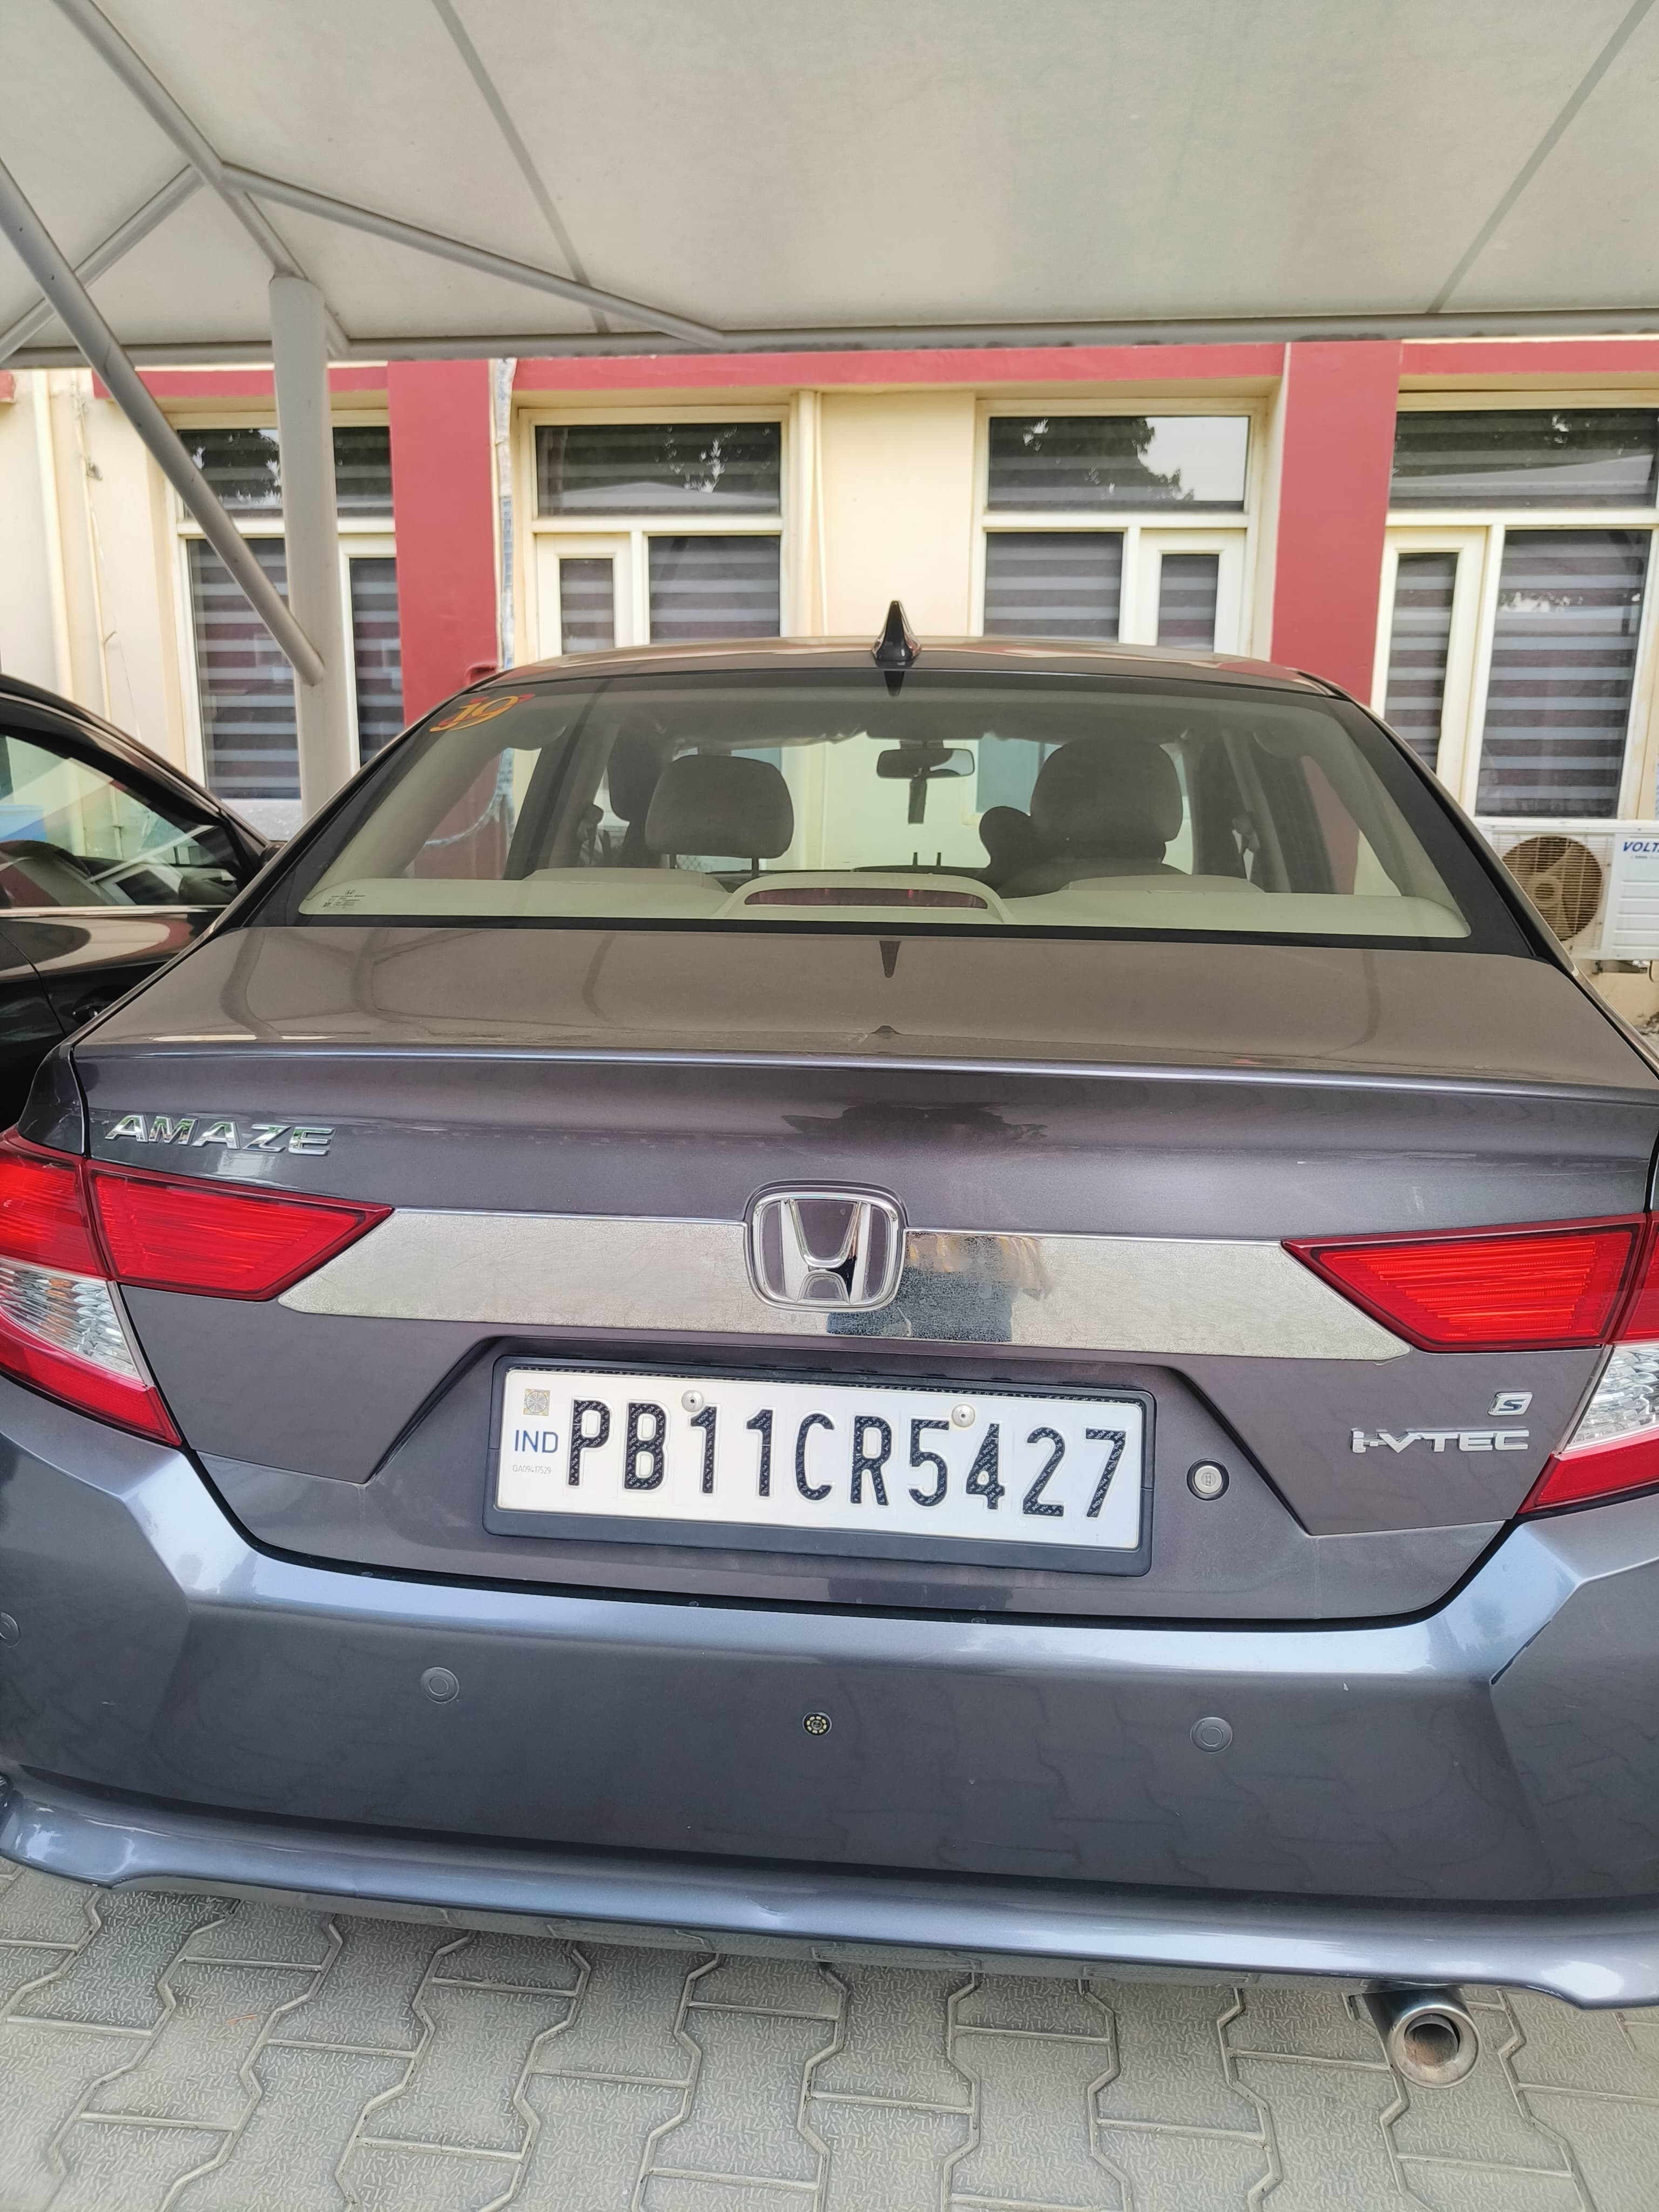license plate: (488, 1360, 1150, 1573)
